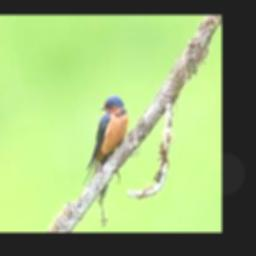Swallow: (83, 95, 128, 187)
